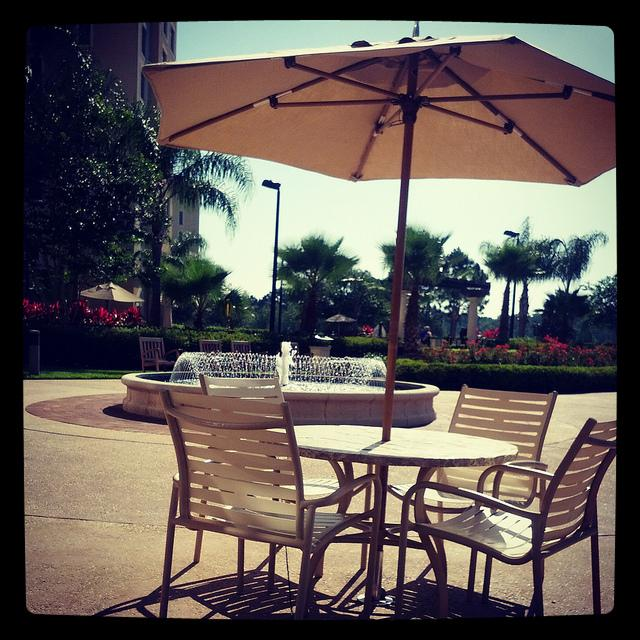chair: (161, 387, 385, 625), (397, 418, 619, 640), (389, 382, 559, 515), (198, 372, 285, 403), (139, 337, 180, 371), (199, 338, 222, 352), (231, 339, 252, 353)
dining table: (286, 420, 526, 467), (364, 449, 391, 615)
